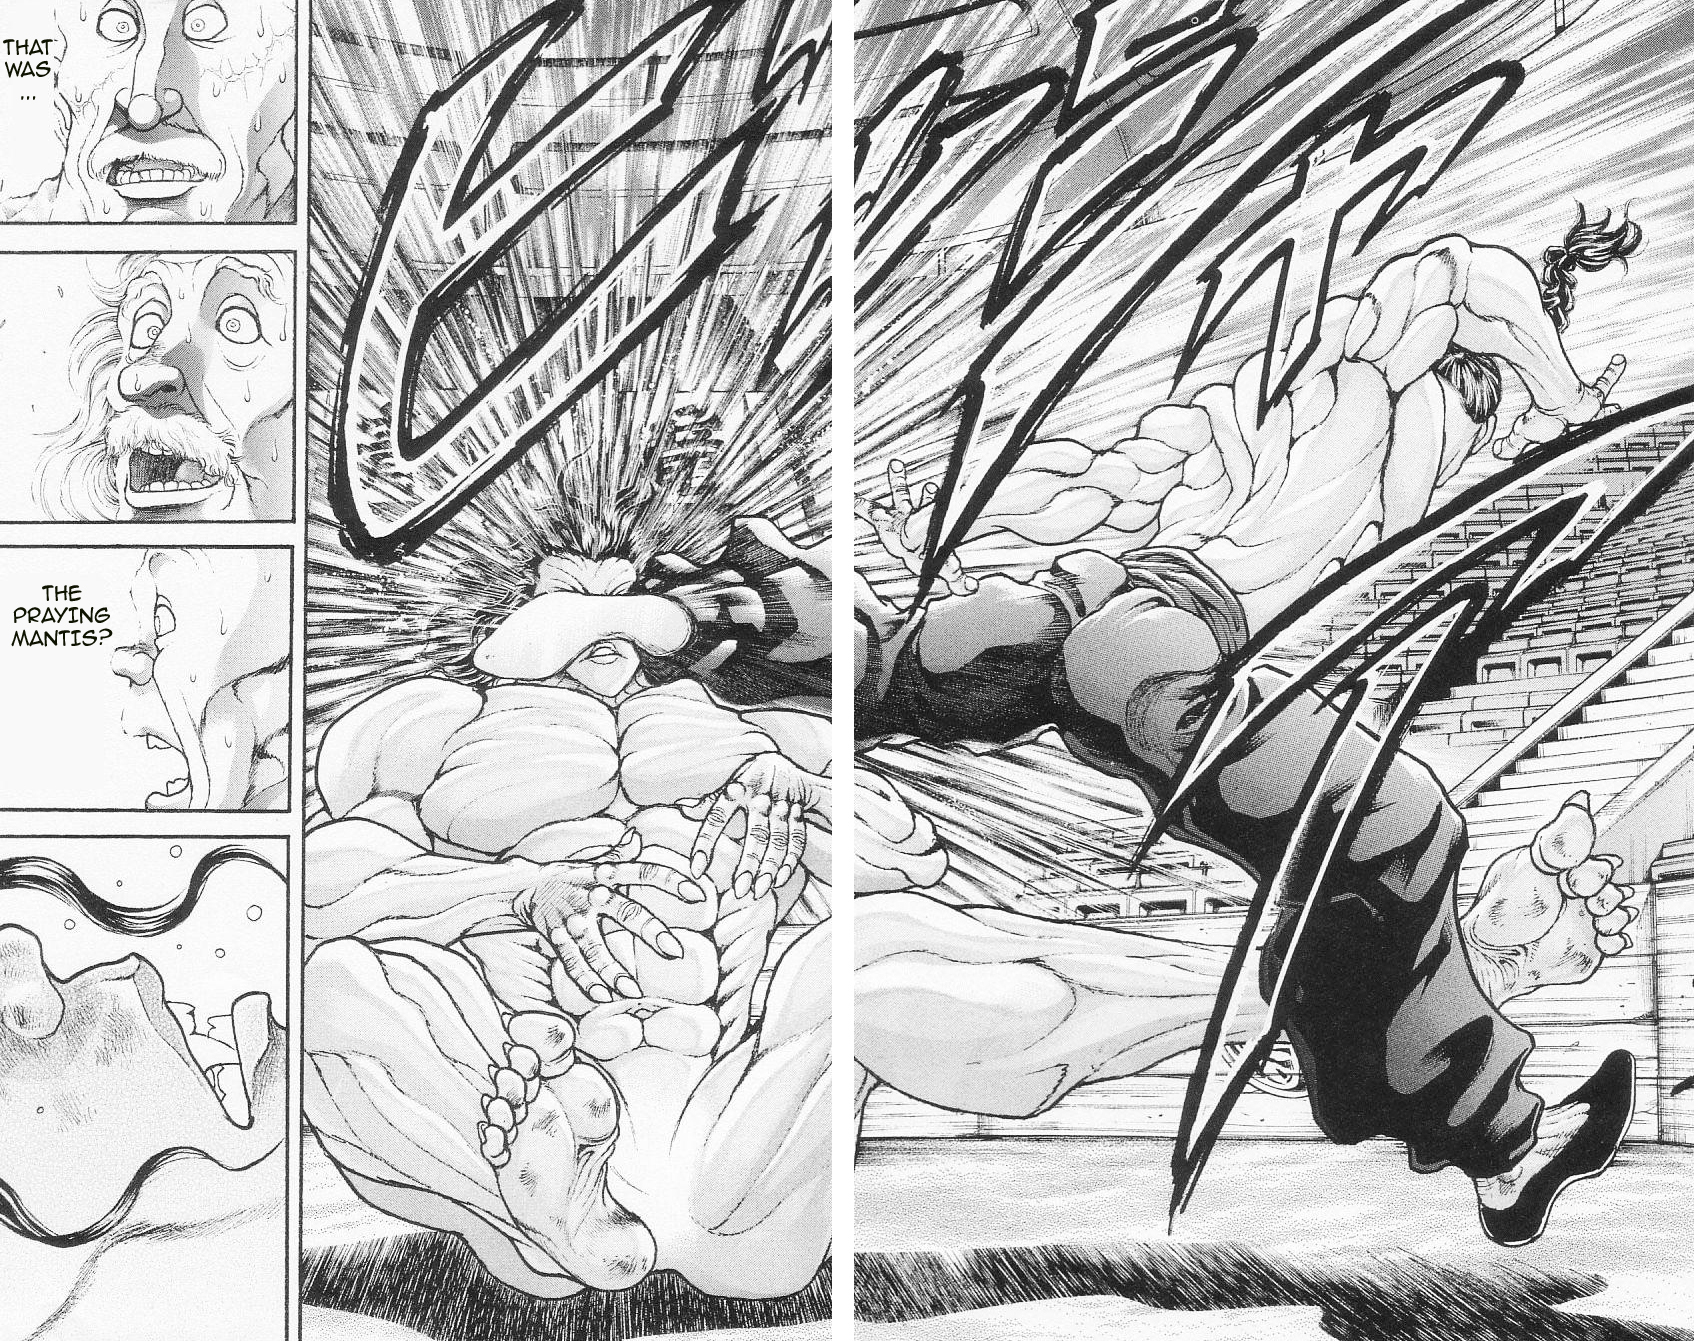Baloon: (12, 571, 118, 657), (6, 37, 56, 88)
Vignetta: (300, 1, 1697, 1337), (1, 834, 289, 1341), (1, 251, 296, 525), (1, 547, 289, 810), (4, 1, 300, 224)
